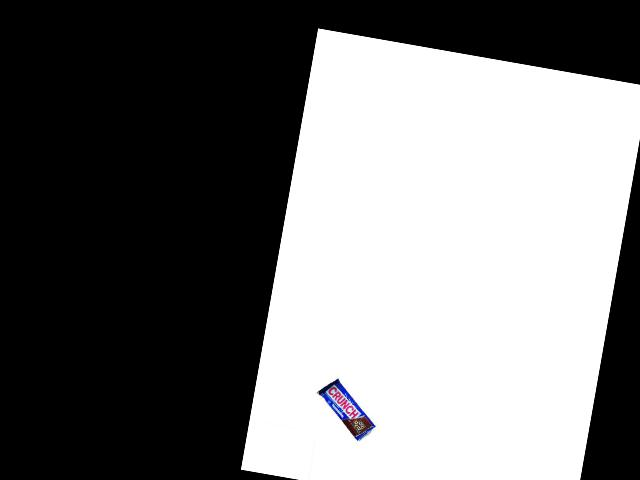chocolate: (308, 374, 384, 445)
